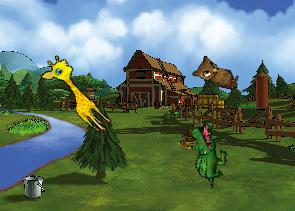crocodile: (176, 120, 239, 189)
giraffe: (36, 51, 121, 136)
owl: (191, 53, 242, 90)
